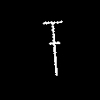double_crochet: (43, 21, 61, 75)
